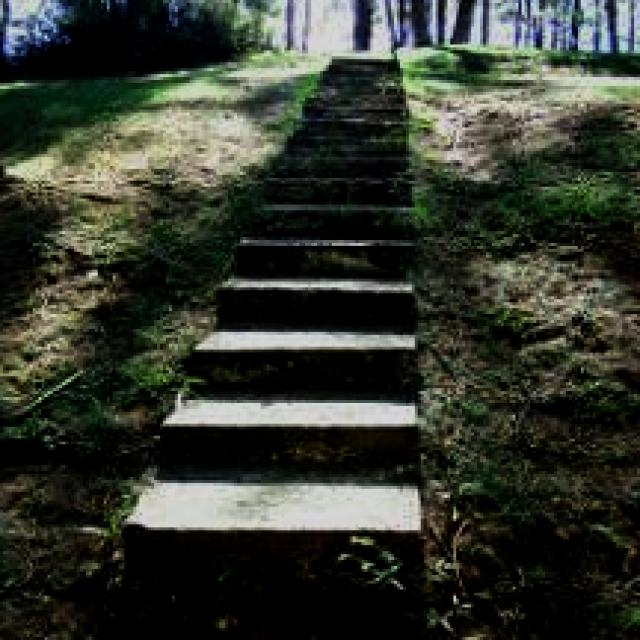upstair: (87, 214, 493, 549)
